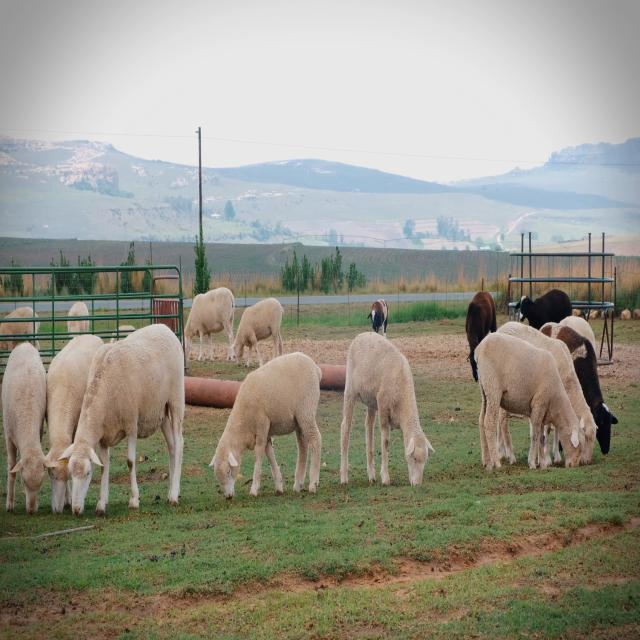sheep: (70, 323, 194, 540), (466, 329, 586, 491), (210, 352, 328, 508), (334, 325, 439, 493), (1, 347, 46, 516), (227, 300, 300, 374)
